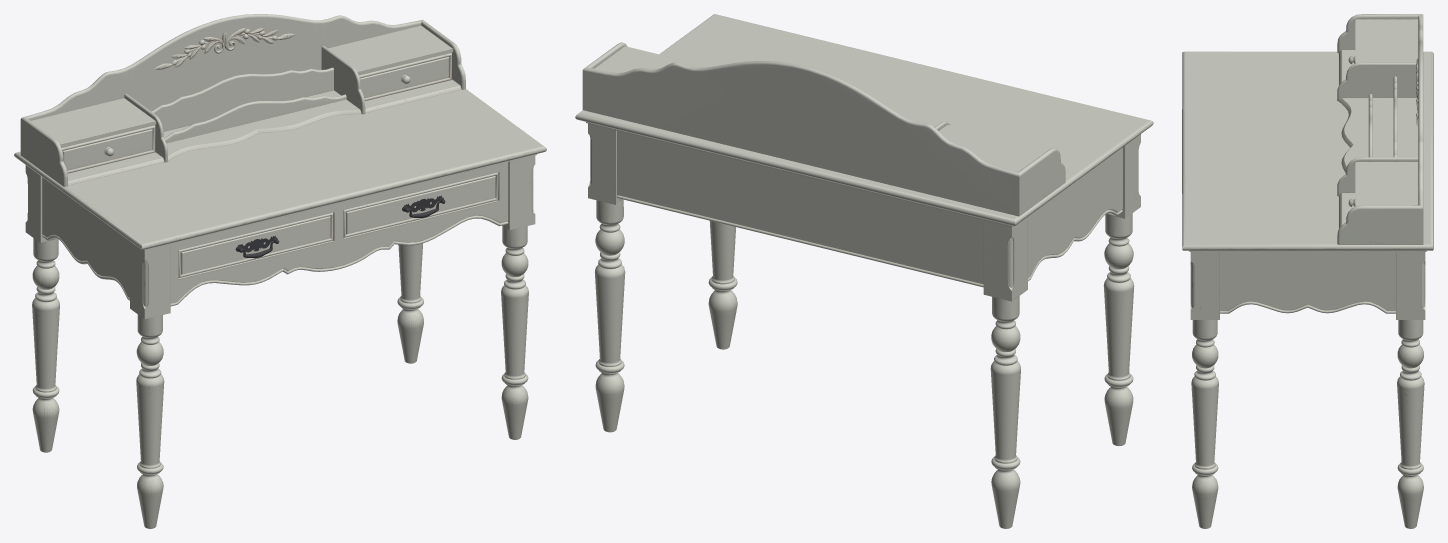
The model's file is example148.gltf.
3 renders of one model, left to right at view 1: azimuth 30°, elevation 25°; view 2: azimuth 150°, elevation 25°; view 3: azimuth 270°, elevation 25°, orthographic. The views are drawn at different scales.
Size of the model in its own units: 110 by 99.48 by 59.98.
2 materials, 2 textured.
